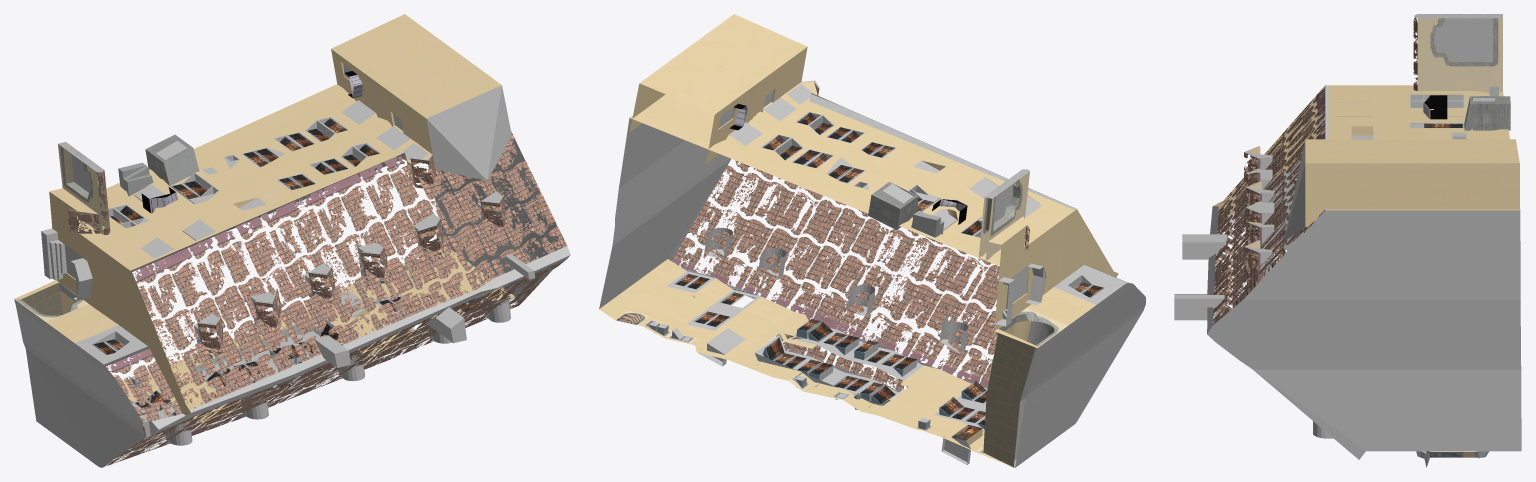
Rendered from Apteegi_1-origo.obj.
3 views of the same model, side by side, from view 1: azimuth 30°, elevation 25°; view 2: azimuth 150°, elevation 25°; view 3: azimuth 270°, elevation 25° (orthographic). The views are drawn at different scales.
Parts seen in each view (by area): view 1: Apteegi_1; view 2: Apteegi_1; view 3: Apteegi_1.
Boxes of the visible parts, left/top/right/bottom form: Apteegi_1: left=14, top=14, right=570, bottom=467; Apteegi_1: left=599, top=14, right=1145, bottom=467; Apteegi_1: left=1174, top=14, right=1521, bottom=467.
Bounding box in the file's own units: 30.69 × 21 × 18.93.
